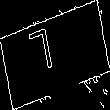L_S: (40, 27, 70, 83)
